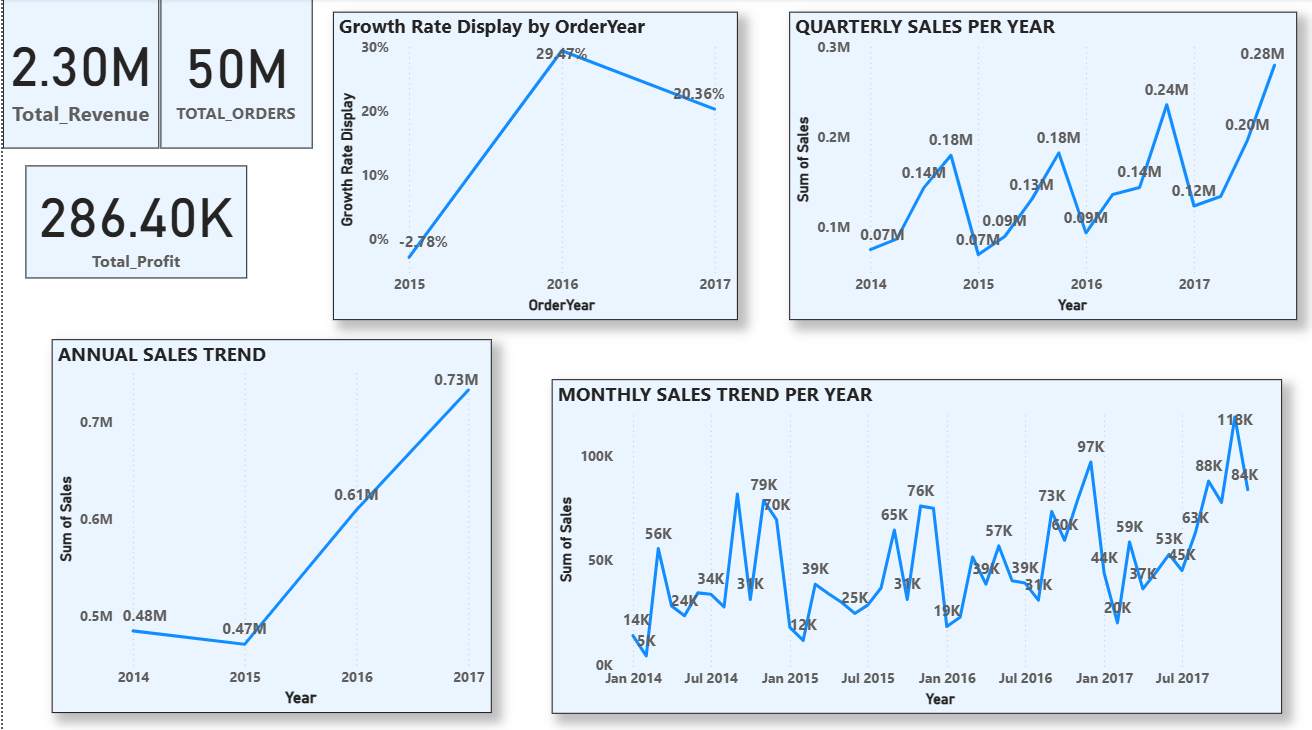

What the dashboard file says about the page in this screenshot:
{"tool":"powerbi","page":{"name":"Page 1","canvas":[1280,720],"ordinal":0},"visuals":[{"type":"card","fields":{"Values":["Superstore.Total_Revenue"]},"box":[0,0,152.9,147.1],"z":0},{"type":"card","fields":{"Values":["Superstore.Total_Profit"]},"box":[21.4,164.3,217.1,110],"z":1000},{"type":"lineChart","title":"ANNUAL SALES TREND","fields":{"Category":["Superstore.Order Date.Variation.Date Hierarchy.Year"],"Y":["Sum(Superstore.Sales)"]},"box":[47.1,334.3,430,365.7],"z":2000},{"type":"lineChart","title":"QUARTERLY SALES PER YEAR","fields":{"Y":["Sum(Superstore.Sales)"],"Category":["Superstore.Order Date.Variation.Date Hierarchy.Year","Superstore.Order Date.Variation.Date Hierarchy.Quarter"]},"box":[768.6,12.9,497.1,301.4],"z":3000},{"type":"lineChart","title":"MONTHLY SALES TREND PER YEAR","fields":{"Y":["Sum(Superstore.Sales)"],"Category":["Superstore.Order Date.Variation.Date Hierarchy.Year","Superstore.Order Date.Variation.Date Hierarchy.Month"]},"box":[537.1,372.9,714.3,327.1],"z":4000},{"type":"card","fields":{"Values":["Superstore.TOTAL_ORDERS"]},"box":[154.3,0,148.6,147.1],"z":5000},{"type":"lineChart","fields":{"Category":["Query1.OrderYear"],"Y":["Query1.Growth Rate Display"]},"box":[322.9,12.9,395.7,301.4],"z":6000}]}

Visuals, with their boxes in screenshot pixels (x1, y1, x2, y2), scaled from the page's 1280x720 canvas onto the 1312x730 screenshot:
card - Superstore.Total_Revenue: crop(0, 0, 157, 149)
card - Superstore.Total_Profit: crop(22, 167, 244, 278)
"ANNUAL SALES TREND" lineChart: crop(48, 339, 489, 710)
"QUARTERLY SALES PER YEAR" lineChart: crop(788, 13, 1297, 319)
"MONTHLY SALES TREND PER YEAR" lineChart: crop(551, 378, 1283, 710)
card - Superstore.TOTAL_ORDERS: crop(158, 0, 310, 149)
lineChart - Query1.OrderYear x Query1.Growth Rate Display: crop(331, 13, 737, 319)
